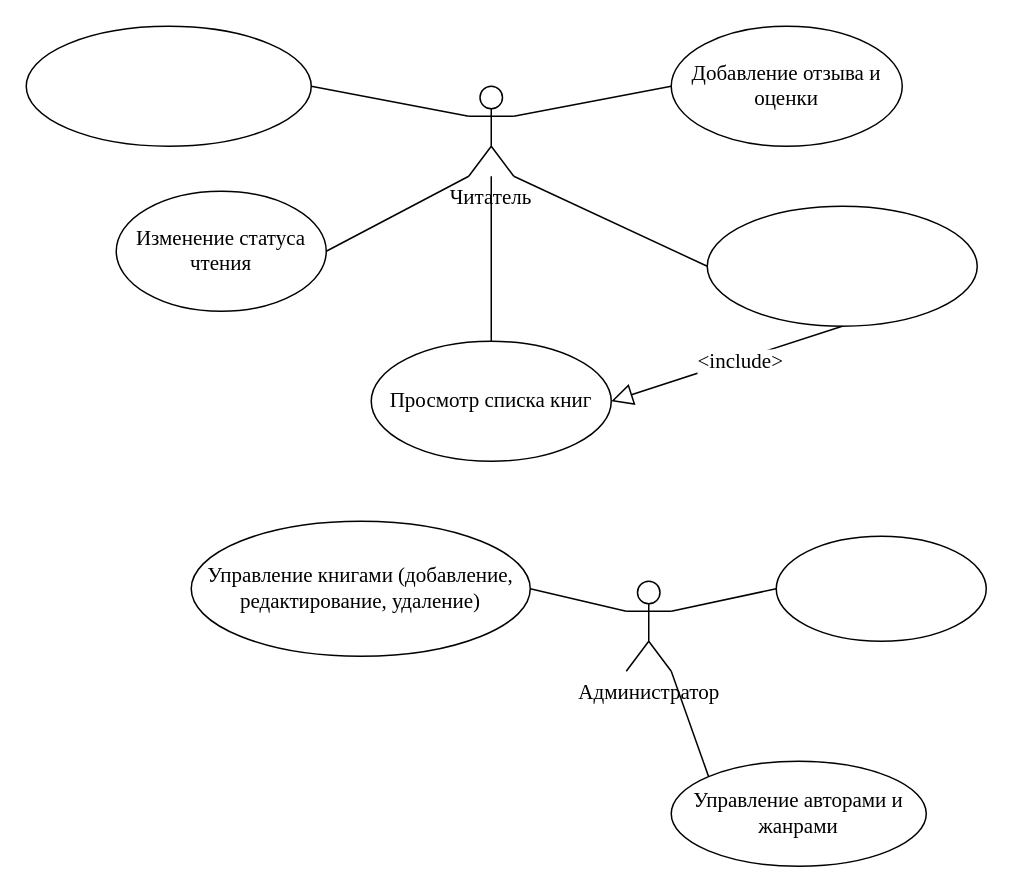
Image size: 1013x893. Some labels were removed from this diagram. The shapes that lost their labels are listed below. From the top down, each one's centre as x and y in pixels, then its label:
pixel 168 85: Регистрация/авторизация
pixel 841 265: Поиск книг (автор,жанр,название)
pixel 880 588: Управление пользователями
